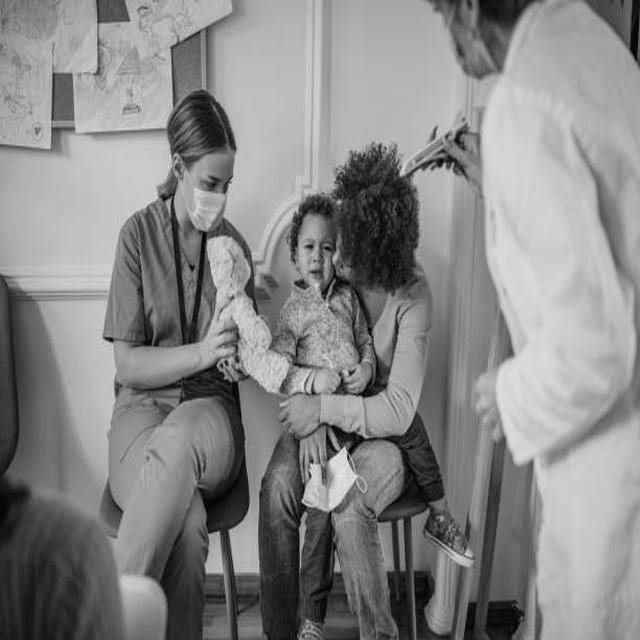Fear: (299, 213, 335, 291)
